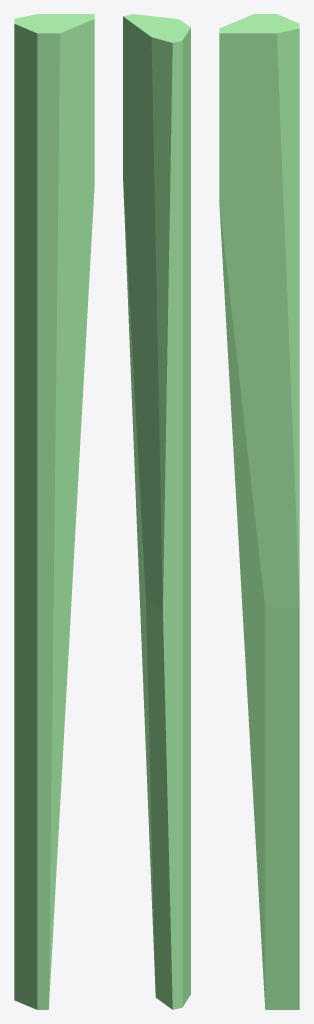
Rendered from palle_scrotali_buone_robot_base_coll_11.dae.
The picture shows the model from 3 angles, left to right: view 1: azimuth 90°, elevation 25°; view 2: azimuth 210°, elevation 25°; view 3: azimuth 270°, elevation 25°; orthographic projection.
Visible parts, largest first — view 1: Node_000002334E243BC0; view 2: Node_000002334E243BC0; view 3: Node_000002334E243BC0.
Boxes of the visible parts, x1,y1,x2,y2 form: Node_000002334E243BC0: [14, 14, 94, 1009]; Node_000002334E243BC0: [123, 14, 190, 1009]; Node_000002334E243BC0: [219, 14, 299, 1009].
Bounding box in the file's own units: 0.04 × 0.94 × 0.07.
